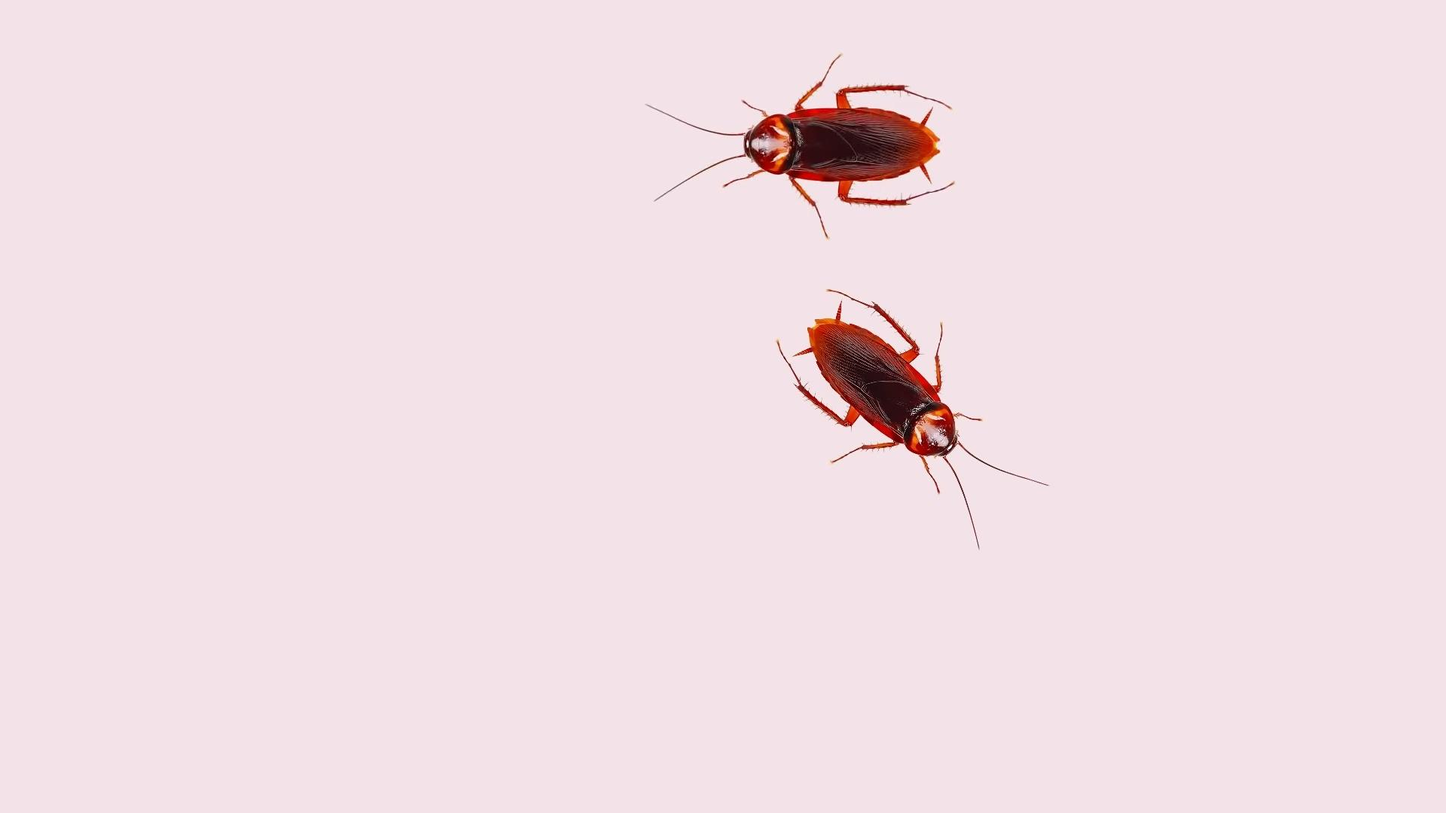cockroach: (763, 277, 1051, 550), (622, 49, 961, 242)
